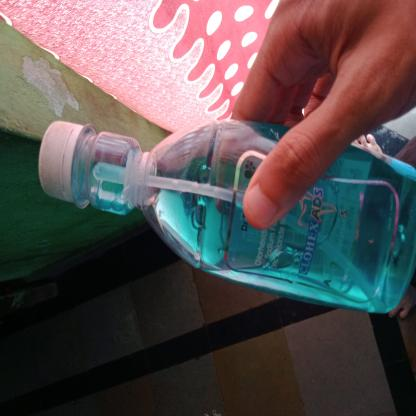bottle: (74, 50, 226, 416)
